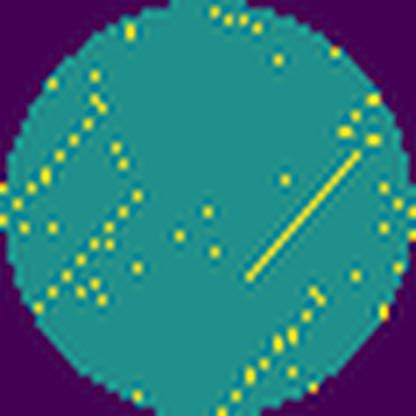Scratch: (238, 147, 364, 287), (211, 285, 330, 416), (34, 185, 148, 316), (3, 93, 114, 227)
